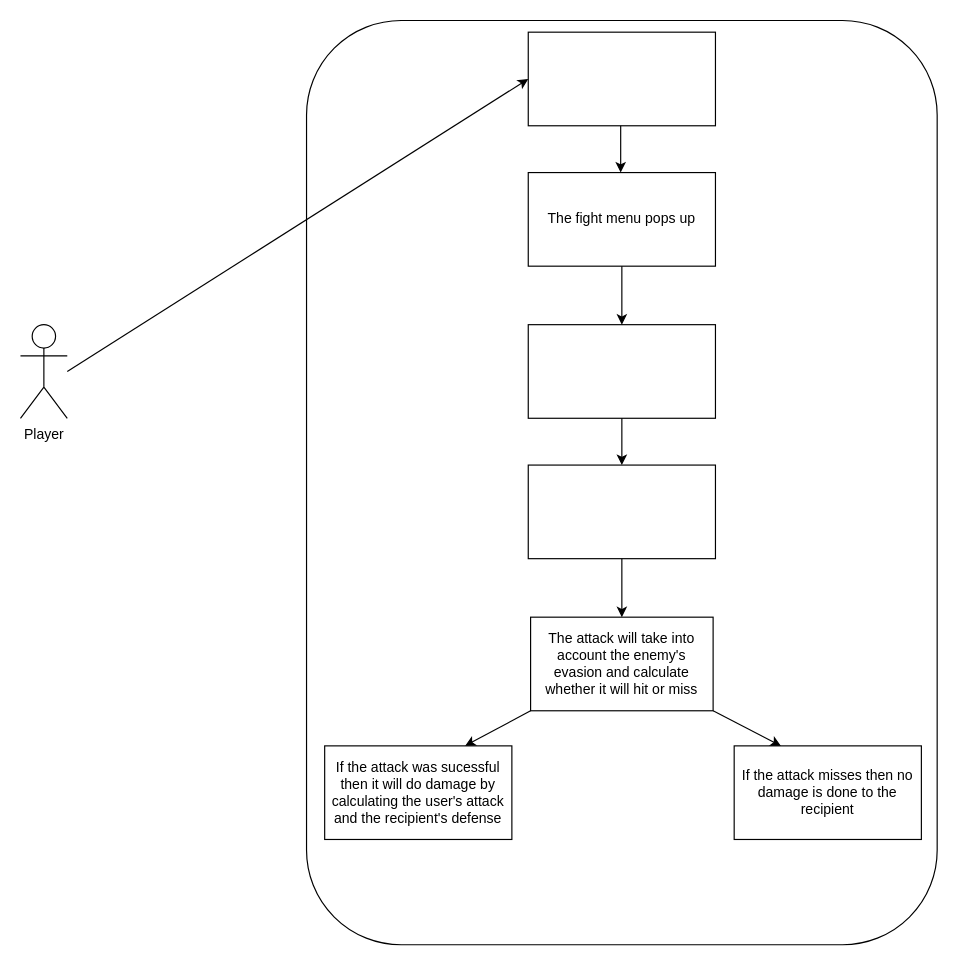
The diagram is 958 pixels wide and 965 high, and some of its shapes have lost their labels. The shapes that lost their labels are listed below. From the top down, each one's centre as x and y in pixels, then its label:
pixel 621 78: Player enters a fight
pixel 621 371: The player chooses to attack
pixel 621 511: They can either use a physical or magical attack
